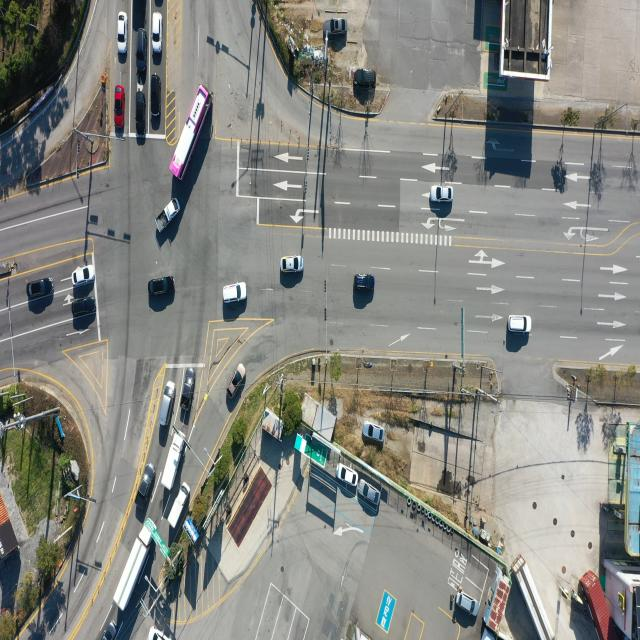car: (184, 366, 198, 422), (137, 463, 156, 503), (160, 381, 176, 427), (458, 589, 482, 615), (228, 362, 246, 396), (27, 278, 53, 300), (148, 277, 173, 298), (136, 92, 146, 144), (114, 87, 125, 134), (72, 266, 95, 288), (337, 463, 359, 486), (359, 482, 380, 506), (222, 282, 247, 302), (150, 76, 160, 123), (362, 422, 384, 442), (136, 30, 146, 74), (72, 299, 95, 318), (117, 12, 127, 54), (430, 184, 453, 202), (151, 12, 161, 52), (510, 315, 532, 333), (355, 68, 376, 86), (281, 257, 303, 274), (324, 20, 345, 37), (148, 624, 170, 640), (355, 275, 375, 292), (105, 619, 117, 640), (153, 0, 163, 8)
large_bus: (173, 83, 211, 178)
medium_truck: (116, 520, 157, 612), (514, 555, 553, 638), (160, 431, 184, 494)
small_truck: (170, 482, 193, 529), (154, 198, 179, 235)
